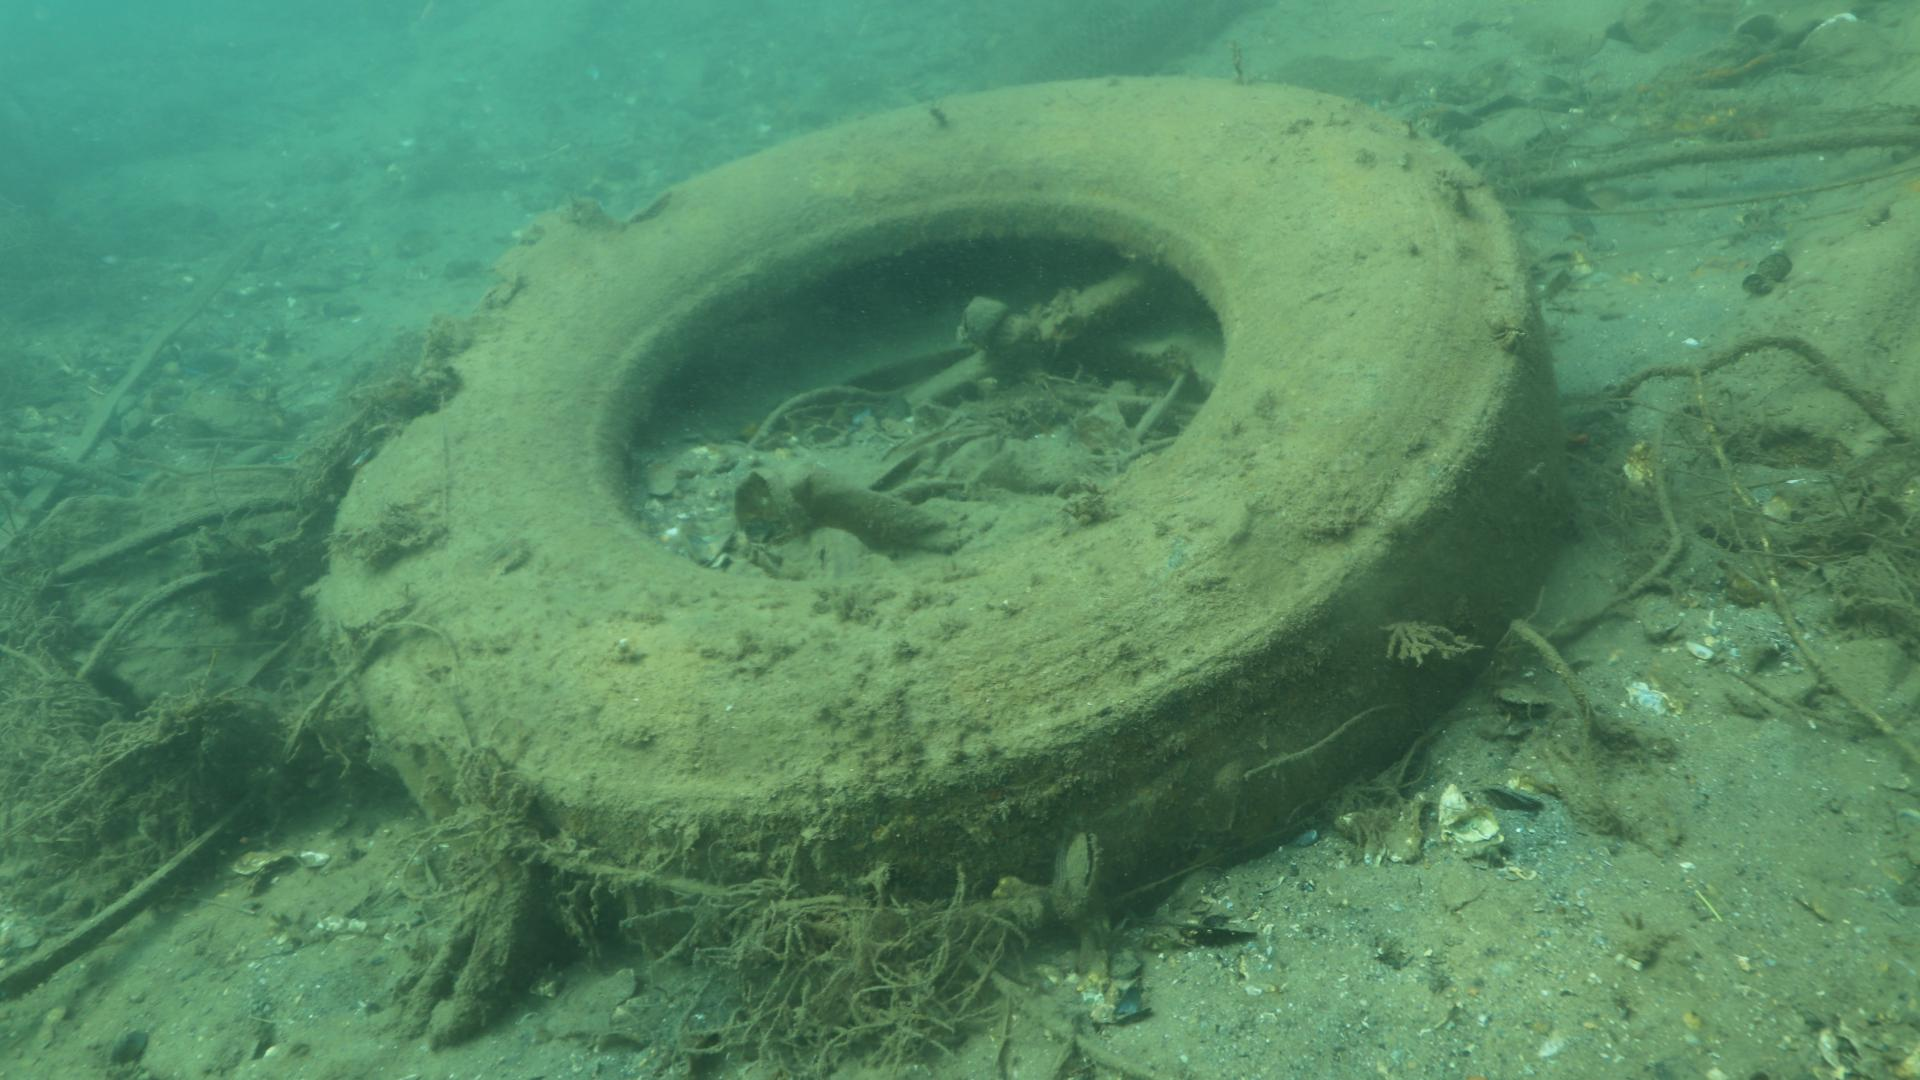tire: (324, 73, 1564, 907)
